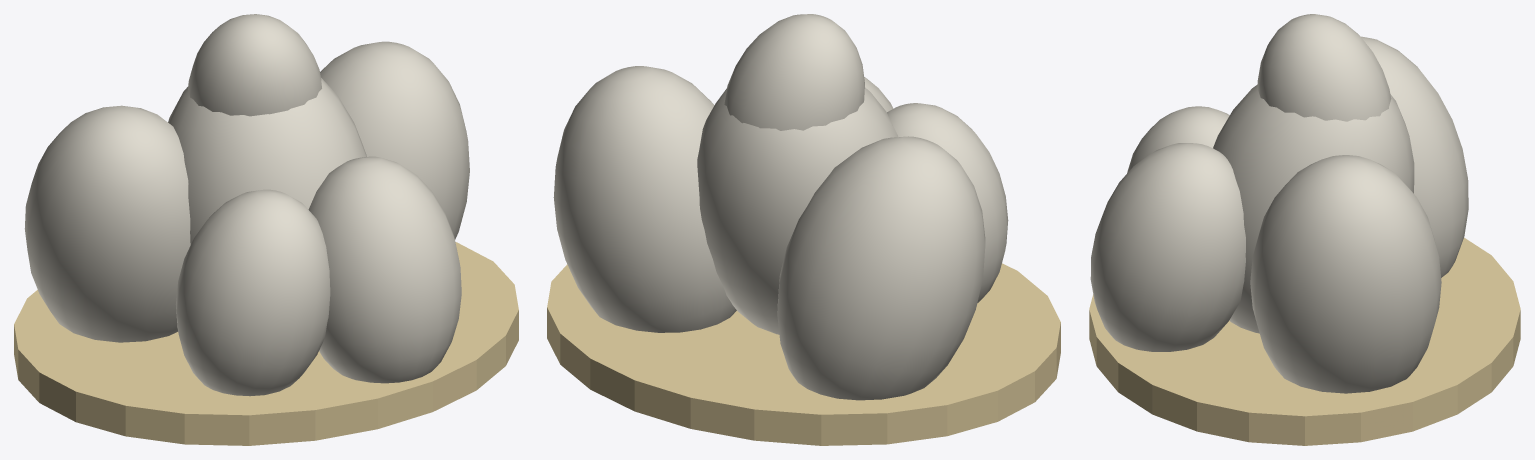
The model's file is AntEggs.glb.
The picture shows the model from 3 angles, left to right: view 1: azimuth 30°, elevation 25°; view 2: azimuth 150°, elevation 25°; view 3: azimuth 270°, elevation 25°; orthographic projection. The views are drawn at different scales.
Visible parts, largest first — view 1: Goo, Egg2, Egg3, Egg4, Egg0, Egg1, Egg5; view 2: Goo, Egg2, Egg1, Egg0, Egg5, Egg4; view 3: Egg1, Goo, Egg3, Egg0, Egg5, Egg2, Egg4.
Part boxes in pixels (<box>): Goo: <box>14,242,518,445</box>; Egg2: <box>24,105,190,342</box>; Egg3: <box>308,156,461,383</box>; Egg4: <box>176,189,330,396</box>; Egg0: <box>168,78,366,244</box>; Egg1: <box>320,41,469,239</box>; Egg5: <box>188,14,321,116</box>; Goo: <box>547,263,1060,445</box>; Egg2: <box>777,136,985,400</box>; Egg1: <box>553,66,736,332</box>; Egg0: <box>697,87,898,334</box>; Egg5: <box>724,14,864,130</box>; Egg4: <box>887,103,1008,302</box>; Egg1: <box>1250,155,1441,393</box>; Goo: <box>1089,237,1520,445</box>; Egg3: <box>1090,143,1245,351</box>; Egg0: <box>1213,84,1414,333</box>; Egg5: <box>1257,14,1391,121</box>; Egg2: <box>1360,36,1468,277</box>; Egg4: <box>1127,106,1229,173</box>.
Size of the model in its own units: 1.24 by 0.8857 by 1.05.
